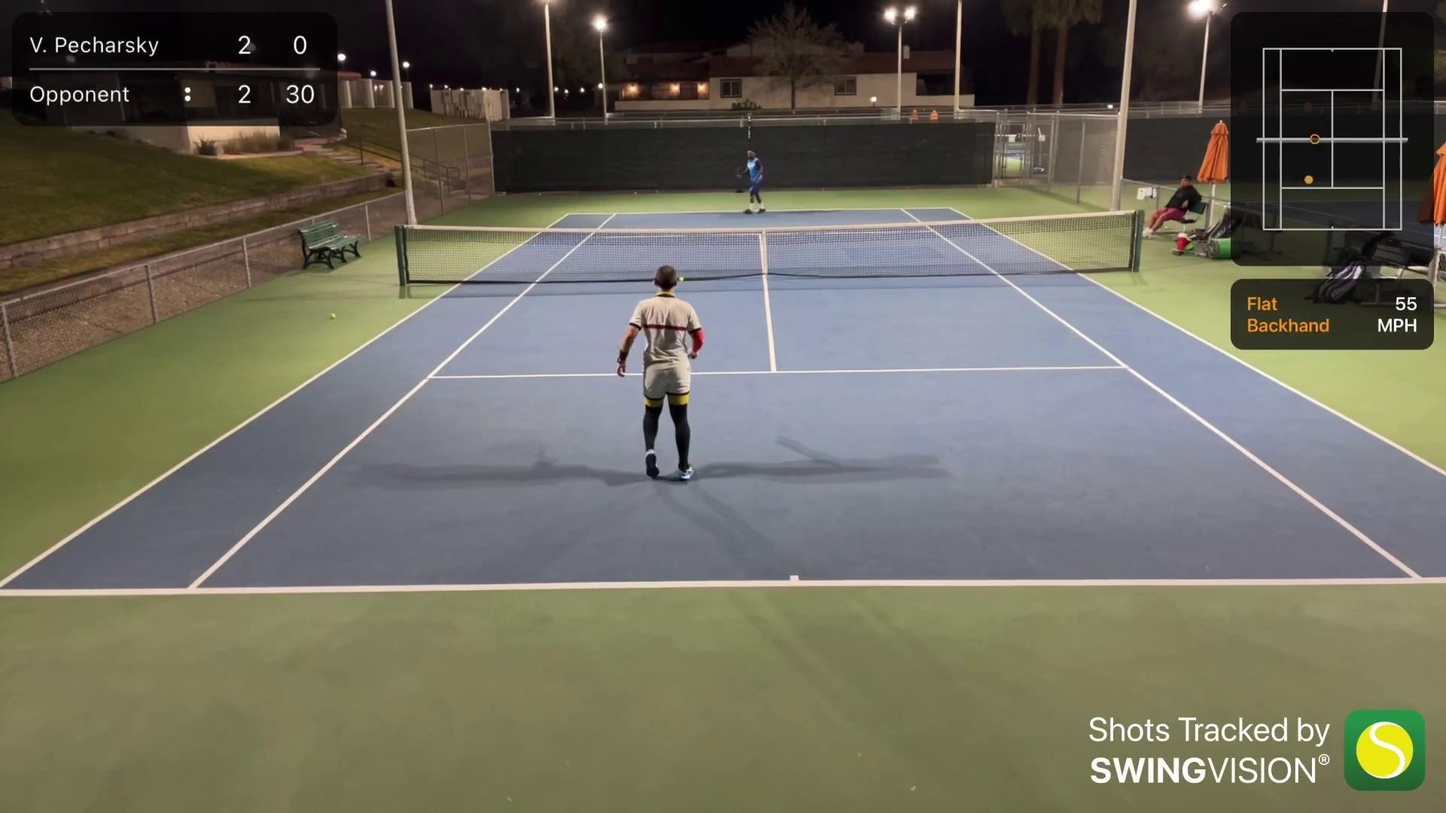ball: (327, 311, 340, 323), (678, 276, 684, 283)
